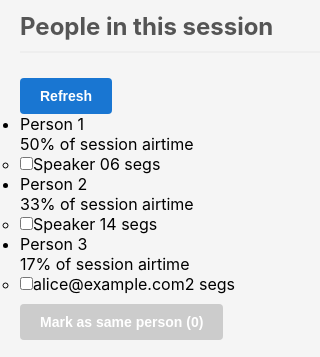
PeoplePanel › Merge button is disabled until 2+ labels selected
Expected: the list with test id "people-panel-groups" is shown, [20,114,235,294]
Expected: the button with test id "people-panel-merge" is disabled, [20,304,223,340]
Step 1. Click the checkbox with test id "people-label-checkbox-Speaker 0" → (26, 164), box [20,157,33,170]
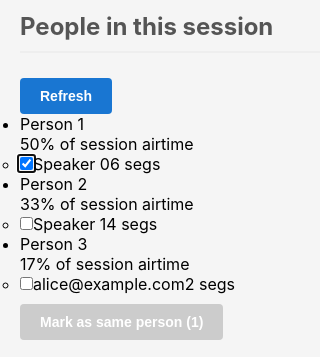
Expected: the button with test id "people-panel-merge" is disabled, [20,304,223,340]
Step 2. Click the checkbox with test id "people-label-checkbox-Speaker 1" → (26, 224), box [20,217,33,230]
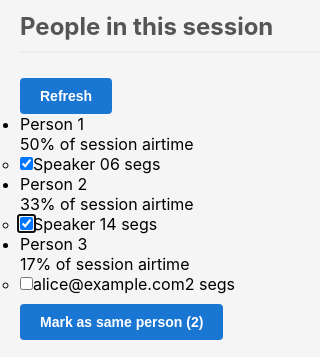
Expected: the button with test id "people-panel-merge" is enabled, [20,304,223,340]
